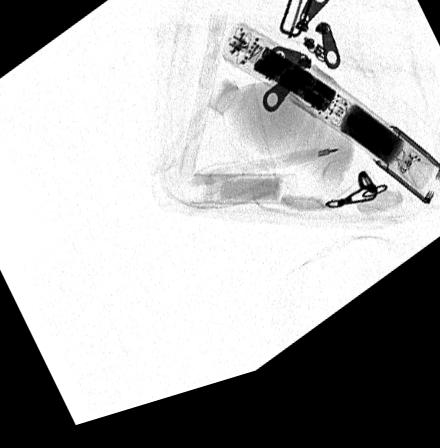Baton: (222, 36, 440, 230)
